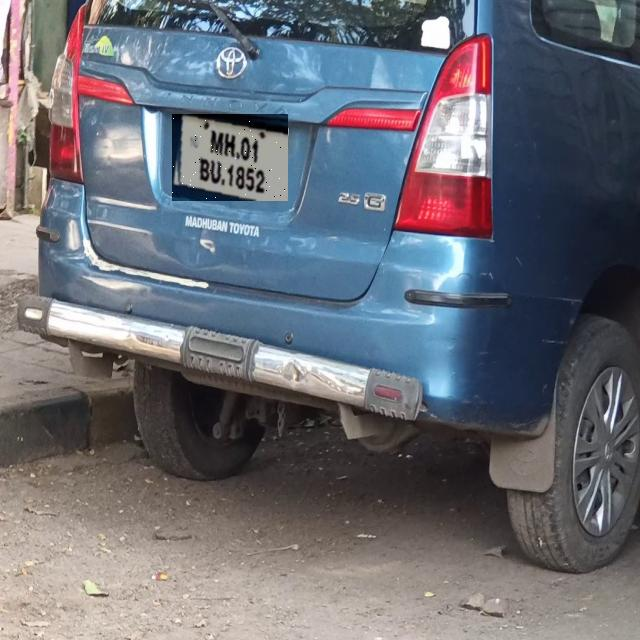Plate: (173, 115, 289, 202)
